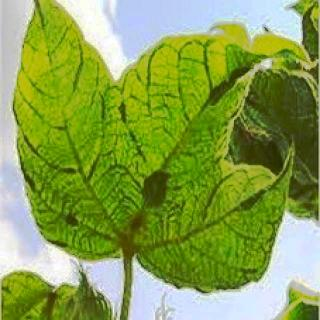curl: (21, 24, 287, 288)
